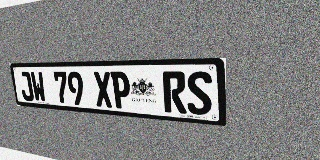7: (52, 72, 70, 104)
9: (67, 72, 85, 106)
J: (18, 72, 34, 101)
P: (110, 72, 132, 109)
R: (162, 71, 187, 114)
S: (186, 71, 212, 116)
W: (30, 72, 47, 102)
X: (93, 72, 113, 108)
